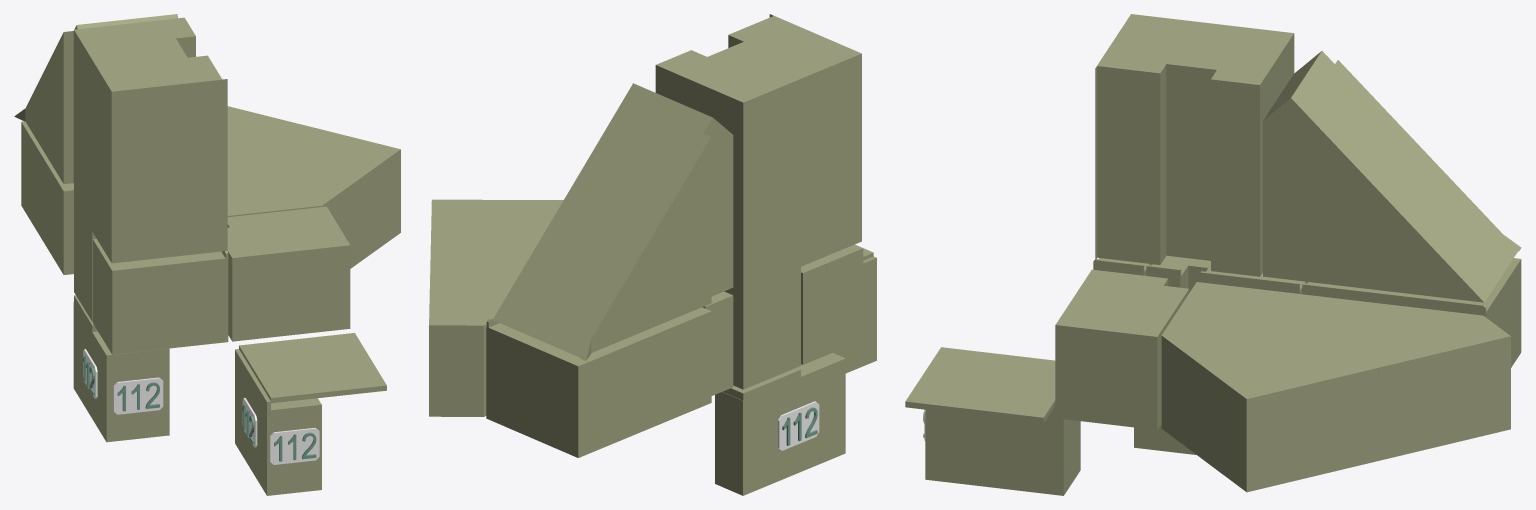
3 views of the same model, side by side, from view 1: azimuth 30°, elevation 25°; view 2: azimuth 150°, elevation 25°; view 3: azimuth 270°, elevation 25° (orthographic). The views are drawn at different scales.
Parts seen in each view (by area): view 1: g_3, g_5, g_10, g_9, g_13, g_1, g_2, g_0, g_6, g_4, g_12, g_11 (+2 smaller); view 2: g_2, g_6, g_3, g_5, g_4, g_12, g_11, g_9, g_0, g_8, g_1, g_21; view 3: g_5, g_3, g_2, g_10, g_1, g_13, g_6, g_7, g_4, g_0, g_9.
Boxes of the visible parts, <box> form: g_3: <box>92,17,227,263</box>; g_5: <box>227,106,400,268</box>; g_10: <box>227,206,350,341</box>; g_9: <box>93,239,228,354</box>; g_13: <box>239,333,386,403</box>; g_1: <box>235,349,321,495</box>; g_2: <box>14,14,177,183</box>; g_0: <box>96,338,169,442</box>; g_6: <box>21,121,73,274</box>; g_4: <box>74,25,129,230</box>; g_12: <box>73,295,101,425</box>; g_11: <box>74,202,96,321</box>; g_2: <box>493,83,733,360</box>; g_6: <box>486,307,711,457</box>; g_3: <box>655,14,861,266</box>; g_5: <box>429,199,563,416</box>; g_4: <box>712,66,800,290</box>; g_12: <box>715,366,814,495</box>; g_11: <box>724,267,800,389</box>; g_9: <box>801,244,863,364</box>; g_0: <box>801,353,845,466</box>; g_8: <box>702,291,733,395</box>; g_1: <box>833,256,876,373</box>; g_21: <box>778,401,819,450</box>; g_5: <box>1161,282,1510,492</box>; g_3: <box>1095,14,1281,276</box>; g_2: <box>1263,51,1521,302</box>; g_10: <box>1055,269,1189,429</box>; g_1: <box>925,406,1080,495</box>; g_13: <box>905,347,1055,423</box>; g_6: <box>1302,258,1521,367</box>; g_7: <box>1146,255,1308,294</box>; g_4: <box>1203,24,1294,91</box>; g_0: <box>1134,424,1196,454</box>; g_9: <box>1093,258,1152,275</box>.
Bounding box in the file's own units: 10.27 × 10.34 × 14.38.
